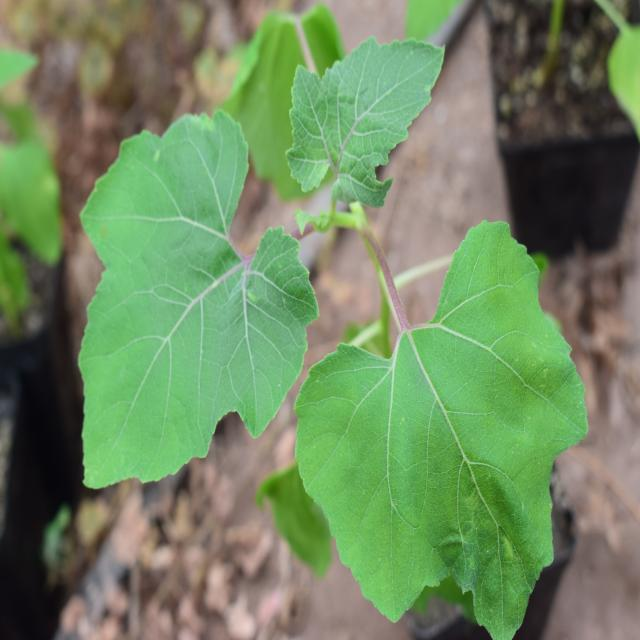cocklebur: (98, 49, 566, 563)
